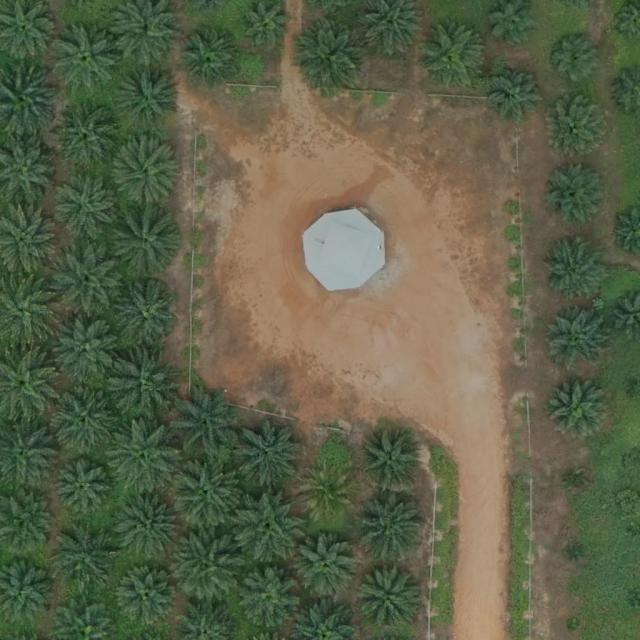Healthy: (51, 24, 122, 95), (49, 100, 120, 171), (110, 209, 181, 280), (236, 420, 307, 491), (172, 390, 243, 461), (53, 246, 123, 317), (114, 62, 184, 133), (114, 139, 184, 210), (298, 21, 368, 92), (418, 21, 488, 92), (235, 493, 305, 564), (172, 456, 242, 527), (110, 422, 180, 493), (112, 351, 182, 422), (51, 316, 121, 387), (358, 492, 428, 562), (171, 534, 241, 604), (50, 388, 120, 458), (545, 375, 608, 438), (359, 429, 422, 492), (297, 537, 360, 600), (117, 566, 180, 629), (54, 524, 117, 587), (55, 175, 117, 238), (542, 238, 604, 301), (547, 308, 609, 371), (117, 496, 179, 559), (117, 284, 179, 346), (548, 97, 610, 159), (545, 164, 607, 226), (356, 567, 418, 629), (239, 569, 301, 631), (183, 32, 238, 88), (491, 67, 546, 122), (547, 32, 602, 87), (55, 463, 110, 518), (242, 2, 289, 49)
Small: (566, 619, 582, 635), (569, 545, 584, 561), (569, 475, 584, 490)
Yellow: (301, 469, 356, 524)
